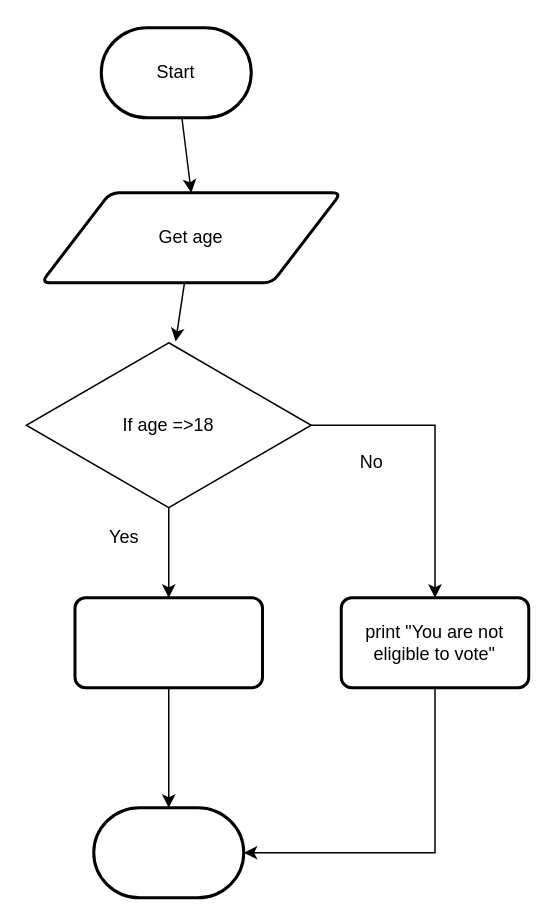
Image size: 557x924. Some labels were removed from this diagram. The centre of each missing label's shape, as x and y in pixels:
print "You age eligible to vote!": point 168,642
Stop: point 168,852
